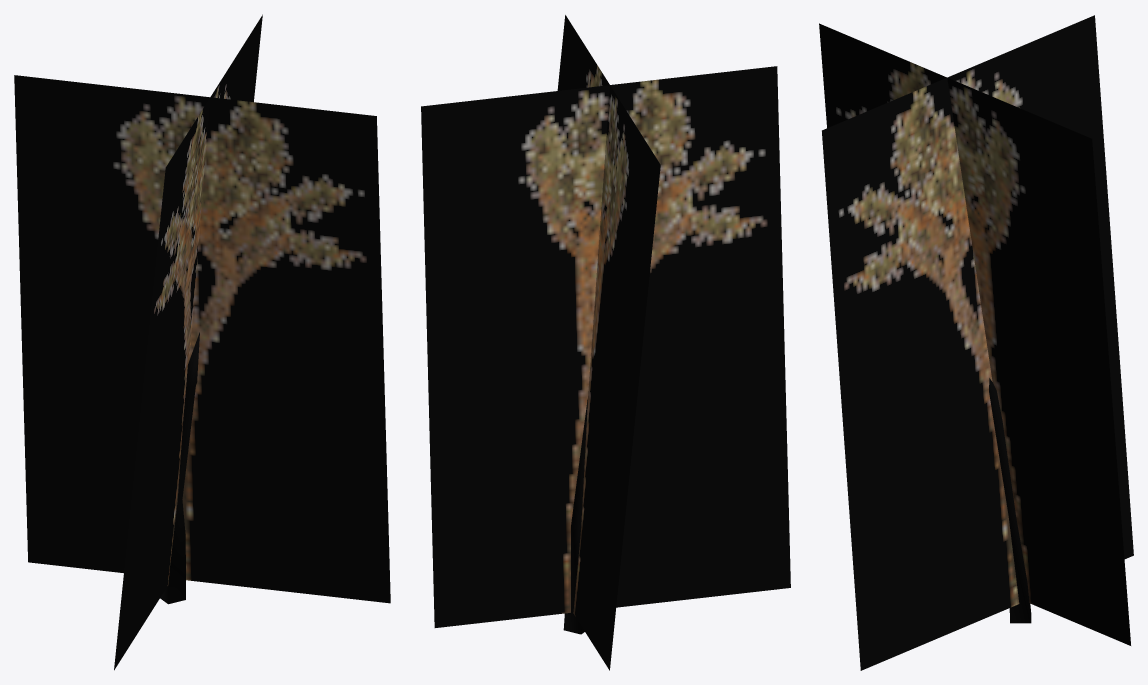
Rendered from tree054.glb.
The picture shows the model from 3 angles, left to right: view 1: azimuth 30°, elevation 25°; view 2: azimuth 150°, elevation 25°; view 3: azimuth 270°, elevation 25°; orthographic projection. The views are drawn at different scales.
Parts seen in each view (by area): view 1: tree054, tree054_trunk; view 2: tree054, tree054_trunk; view 3: tree054, tree054_trunk.
Boxes of the visible parts, box(x1,y1,x2,y2) form: tree054: box(14, 14, 390, 670); tree054_trunk: box(160, 332, 199, 604); tree054: box(421, 15, 790, 670); tree054_trunk: box(563, 399, 587, 634); tree054: box(819, 15, 1133, 670); tree054_trunk: box(989, 378, 1031, 623).
Size of the model in its own units: 1.58 by 2.82 by 1.48.
Materials: 1 (1 with a texture image).
